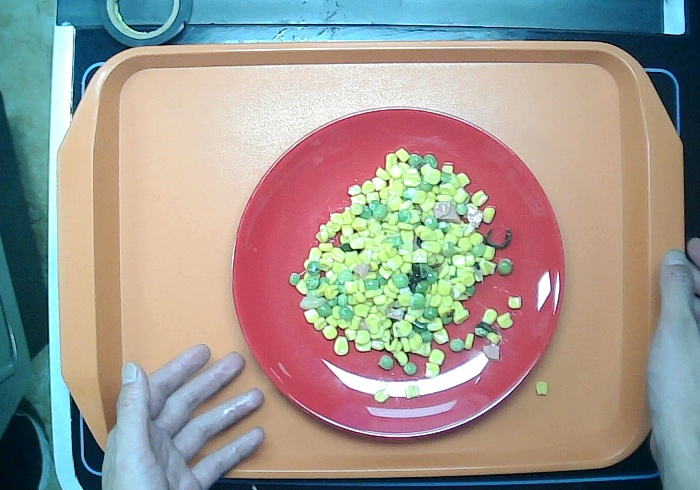HZYJPL-Hong_Se_Yuan_Pan: (230, 106, 568, 441)
